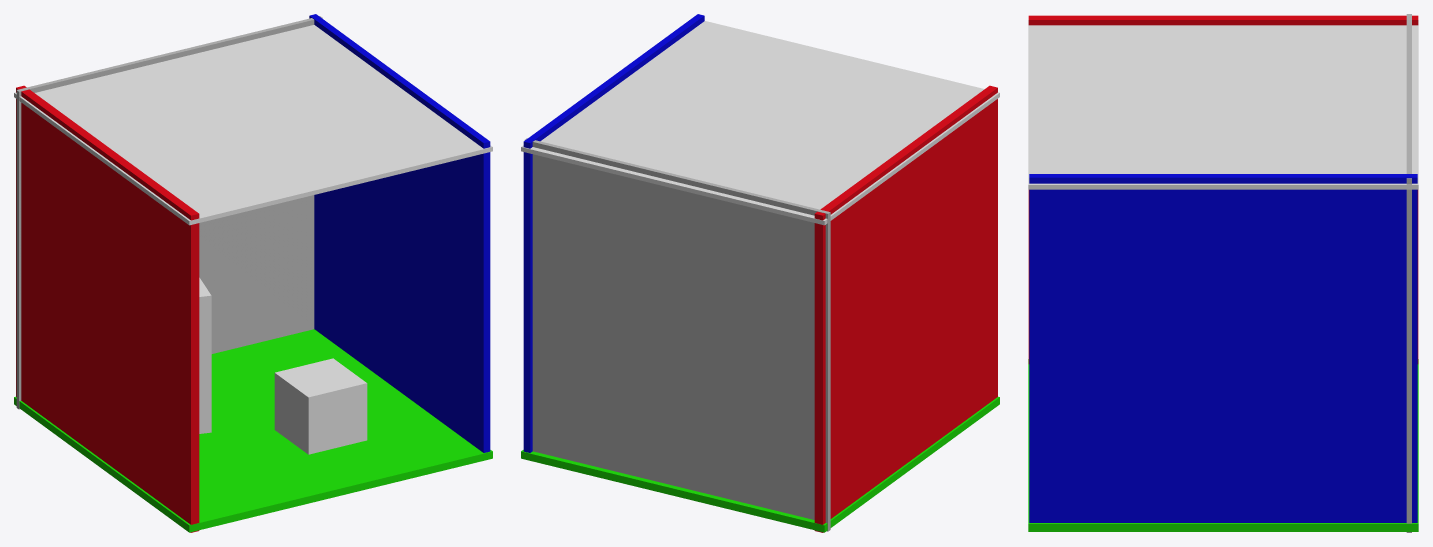
The picture shows the model from 3 angles, left to right: view 1: azimuth 30°, elevation 25°; view 2: azimuth 150°, elevation 25°; view 3: azimuth 270°, elevation 25°; orthographic projection. The views are drawn at different scales.
Parts seen in each view (by area): view 1: Cube.003, Cube.006, Cube.002, Cube.004, Cube.005, Cube, Cube.001; view 2: Cube.005, Cube.003, Cube.006, Cube.002, Cube.004; view 3: Cube.002, Cube.006, Cube.003, Cube.004, Cube.005.
Part boxes in pixels (x1,y1,x2,y2): Cube.003: (16, 85, 199, 532); Cube.006: (14, 25, 492, 225); Cube.002: (309, 14, 490, 452); Cube.004: (14, 329, 492, 532); Cube.005: (16, 16, 322, 409); Cube: (274, 358, 367, 454); Cube.001: (199, 277, 211, 433); Cube.005: (524, 138, 830, 531); Cube.003: (814, 85, 997, 532); Cube.006: (521, 21, 999, 225); Cube.002: (523, 14, 704, 452); Cube.004: (521, 396, 999, 532); Cube.002: (1029, 174, 1417, 522); Cube.006: (1028, 20, 1418, 189); Cube.003: (1028, 15, 1418, 363); Cube.004: (1028, 359, 1418, 531); Cube.005: (1406, 14, 1411, 532).
Bounding box in the file's own units: 14.68 × 14.68 × 14.66.
